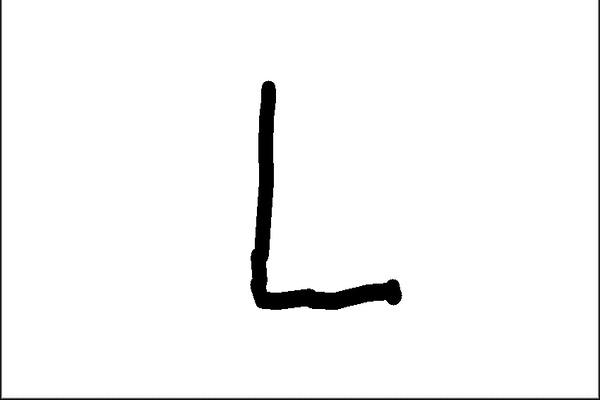L: (241, 71, 408, 320)
